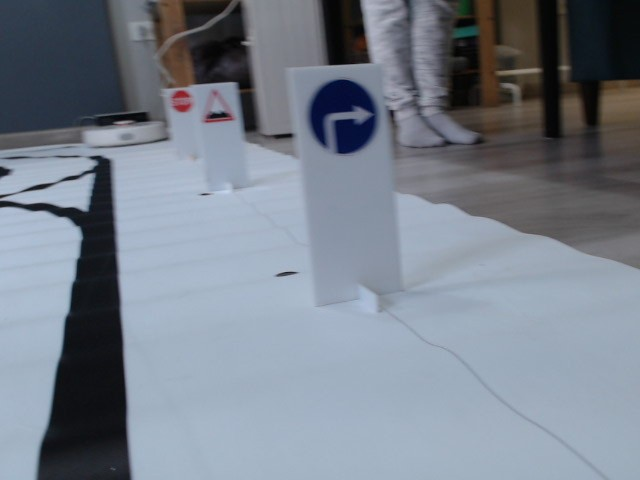Nerov: (203, 89, 233, 123)
Right: (308, 77, 378, 157)
Stop: (171, 89, 192, 114)
